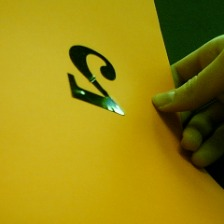orange2: (62, 41, 130, 123)
